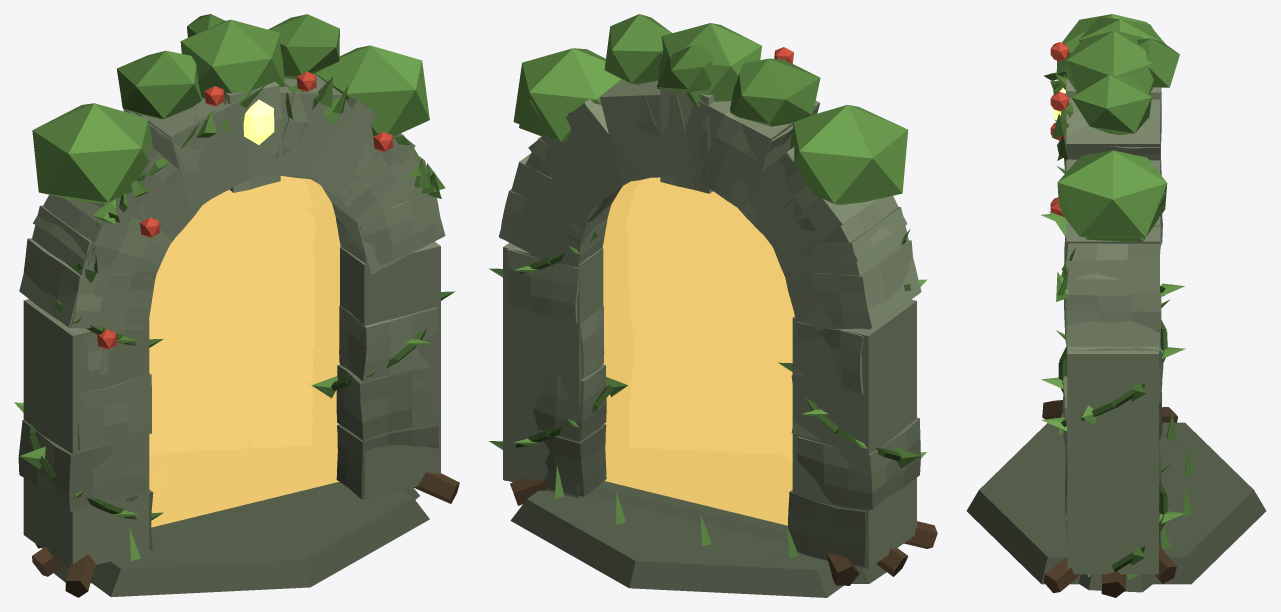
The model's file is portal_orchard.glb.
3 renders of one model, left to right at view 1: azimuth 30°, elevation 25°; view 2: azimuth 150°, elevation 25°; view 3: azimuth 270°, elevation 25°, orthographic. The views are drawn at different scales.
Visible parts, largest first — view 1: Far_Body, Surface_Far, Surface_Near, Arch, Pillar_R, Motif_Canopy, Pillar_L, Motif_Vines, Motif_Roots, Motif_Apples, Motif_KeystoneGem; view 2: Far_Body, Surface_Far, Surface_Near, Arch, Pillar_L, Pillar_R, Motif_Canopy, Base, Motif_Vines, Motif_Roots; view 3: Far_Body, Motif_Canopy, Arch, Motif_Vines, Motif_Roots, Base, Pillar_R, Motif_Apples.
Boxes of the visible parts, x1,y1,x2,y2 form: Far_Body: [19, 19, 445, 597]; Surface_Far: [149, 176, 340, 527]; Surface_Near: [149, 176, 340, 527]; Arch: [23, 78, 443, 327]; Pillar_R: [336, 244, 438, 499]; Motif_Canopy: [68, 14, 445, 283]; Pillar_L: [18, 328, 153, 550]; Motif_Vines: [14, 291, 455, 520]; Motif_Roots: [32, 472, 459, 597]; Motif_Apples: [97, 71, 393, 349]; Motif_KeystoneGem: [243, 99, 274, 144]; Far_Body: [498, 23, 921, 597]; Surface_Far: [602, 178, 794, 525]; Surface_Near: [602, 177, 793, 525]; Arch: [499, 88, 912, 329]; Pillar_L: [787, 299, 920, 566]; Pillar_R: [504, 245, 606, 496]; Motif_Canopy: [519, 14, 910, 245]; Base: [554, 465, 886, 583]; Motif_Vines: [489, 232, 926, 468]; Motif_Roots: [510, 478, 937, 585]; Far_Body: [966, 14, 1266, 584]; Motif_Canopy: [1044, 17, 1179, 301]; Arch: [1064, 70, 1161, 346]; Motif_Vines: [1041, 166, 1185, 571]; Motif_Roots: [1042, 400, 1177, 597]; Base: [1058, 412, 1193, 592]; Pillar_R: [1062, 346, 1163, 574]; Motif_Apples: [1050, 42, 1068, 217].
Bounding box in the file's own units: 2.73 × 3.2 × 1.8.
